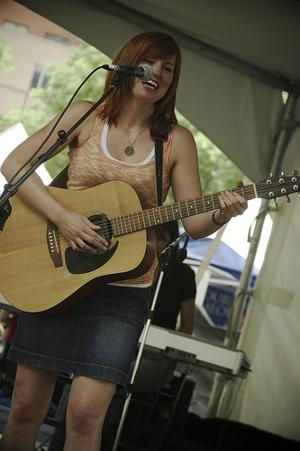person: (4, 32, 249, 450)
